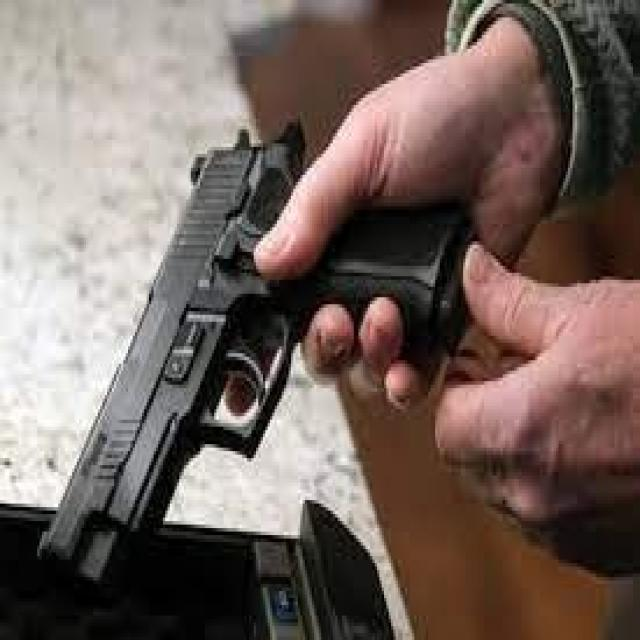gun: (37, 126, 472, 605)
